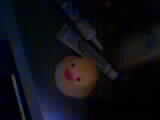duck: (49, 49, 101, 97)
